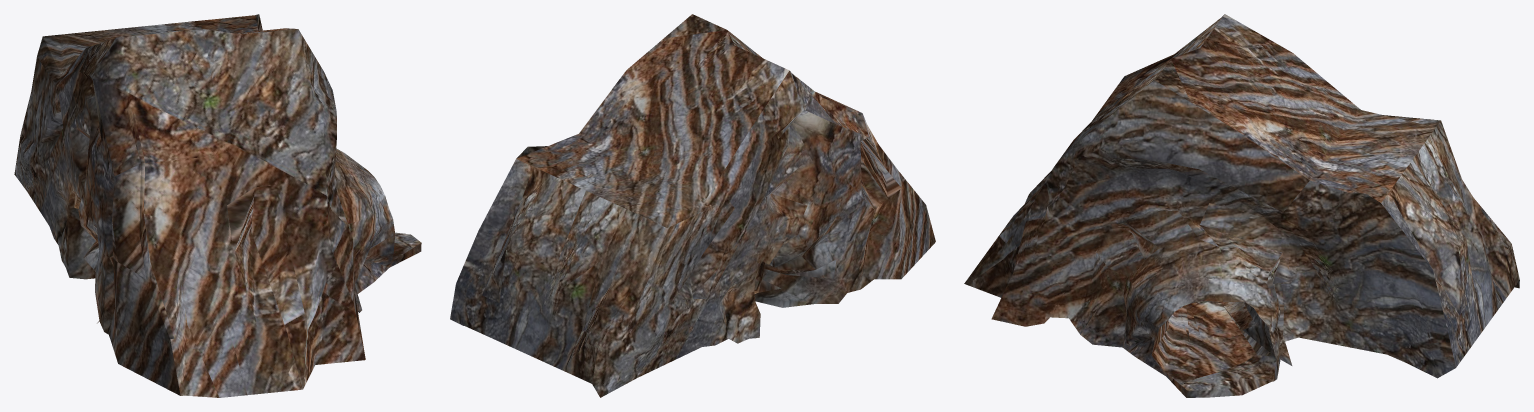
Rendered from MountainCave.fbx.
The picture shows the model from 3 angles, left to right: view 1: azimuth 30°, elevation 25°; view 2: azimuth 150°, elevation 25°; view 3: azimuth 270°, elevation 25°; orthographic projection. The views are drawn at different scales.
Parts seen in each view (by area): view 1: Cave001; view 2: Cave001; view 3: Cave001.
Boxes of the visible parts, box(x1,y1,x2,y2) form: Cave001: box(14, 14, 421, 397); Cave001: box(450, 14, 935, 397); Cave001: box(964, 14, 1519, 397).
Size of the model in its own units: 44.36 by 33.02 by 65.16.
